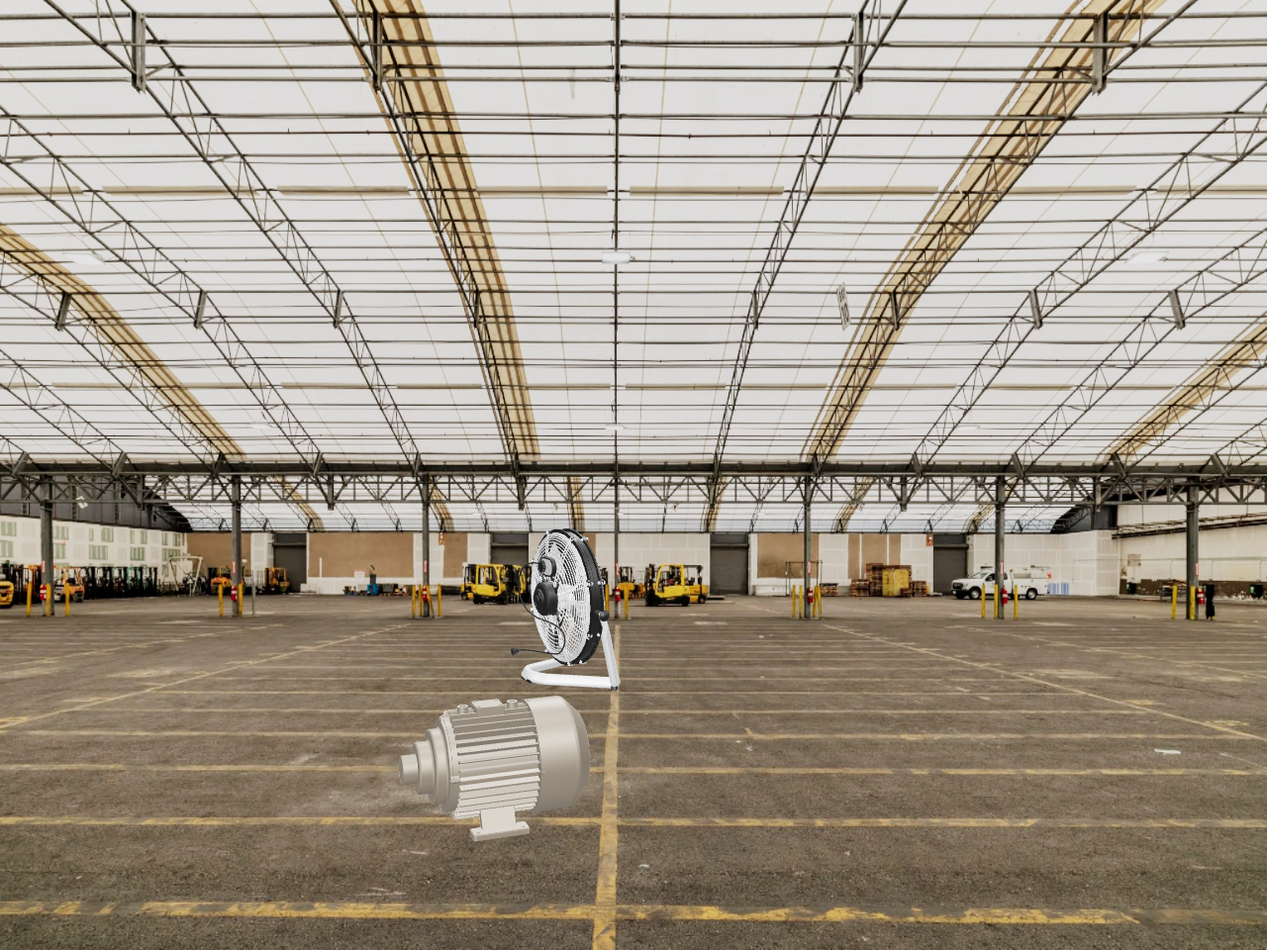ElectroMotor: (399, 696, 590, 841)
FanSanati: (511, 528, 621, 691)
